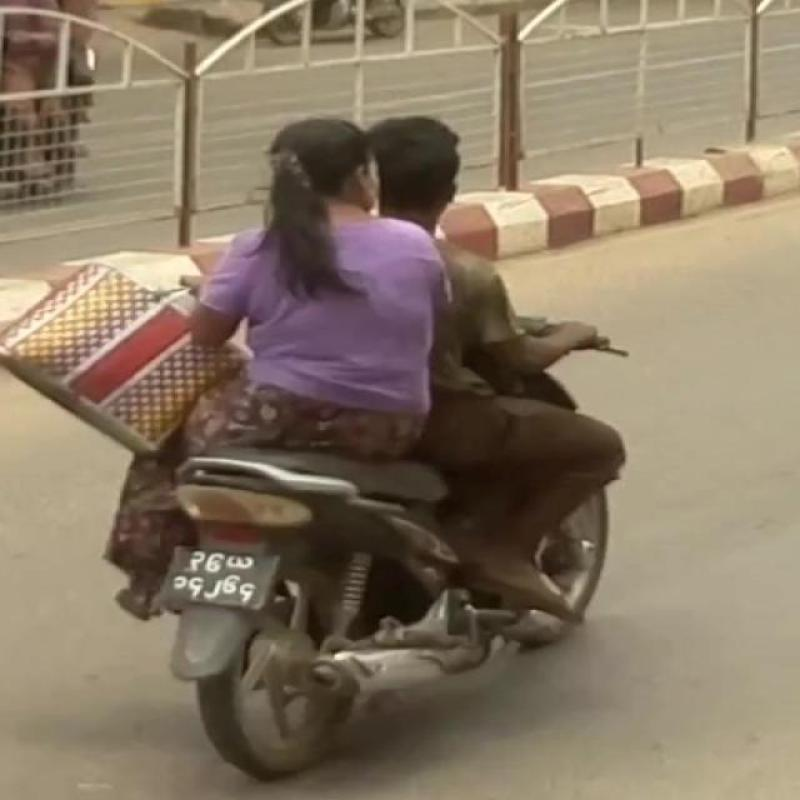nohelmet: (251, 121, 395, 254)
